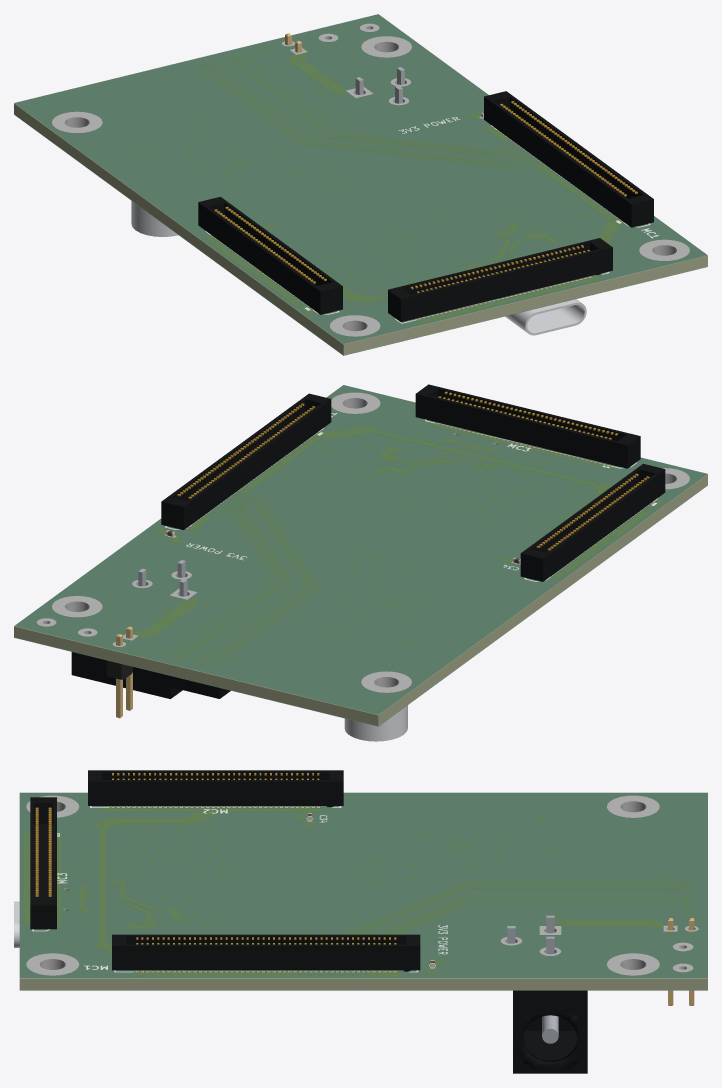
The model's file is Carrier_R16_Interactive.glb.
3 renders of one model, top to bottom at view 1: azimuth 30°, elevation 25°; view 2: azimuth 150°, elevation 25°; view 3: azimuth 270°, elevation 25°, orthographic. The views are drawn at different scales.
Visible parts, largest first — view 1: CARRIER_R16_PRESENTATION_soldermask (×2), CARRIER_R16_PRESENTATION_PCB, MC3, MC1, MC2, CARRIER_R16_PRESENTATION_copper, CARRIER_R16_PRESENTATION_pad, J500, C5; view 2: CARRIER_R16_PRESENTATION_soldermask (×2), CARRIER_R16_PRESENTATION_PCB, MC3, MC1, MC2, CARRIER_R16_PRESENTATION_copper, CARRIER_R16_PRESENTATION_pad, J4, C5, J1, JP1; view 3: CARRIER_R16_PRESENTATION_soldermask (×2), CARRIER_R16_PRESENTATION_PCB, MC1, MC2, J4, CARRIER_R16_PRESENTATION_copper, CARRIER_R16_PRESENTATION_pad, MC3, CARRIER_R16_PRESENTATION_silkscreen.
Part boxes in pixels (x1,y1,x2,y2): CARRIER_R16_PRESENTATION_soldermask (×2): (14, 14, 707, 355); CARRIER_R16_PRESENTATION_PCB: (14, 15, 707, 355); MC3: (388, 238, 612, 322); MC1: (484, 91, 653, 227); MC2: (198, 196, 342, 314); CARRIER_R16_PRESENTATION_copper: (143, 46, 622, 322); CARRIER_R16_PRESENTATION_pad: (52, 23, 689, 336); J500: (505, 299, 586, 335); C5: (131, 201, 178, 236); CARRIER_R16_PRESENTATION_soldermask (×2): (14, 385, 707, 726); CARRIER_R16_PRESENTATION_PCB: (14, 386, 707, 726); MC3: (415, 384, 640, 468); MC1: (161, 393, 331, 529); MC2: (520, 463, 665, 581); CARRIER_R16_PRESENTATION_copper: (107, 422, 663, 665); CARRIER_R16_PRESENTATION_pad: (36, 392, 689, 692); J4: (71, 560, 187, 698); C5: (344, 705, 407, 741); J1: (133, 667, 230, 698); JP1: (106, 626, 132, 718); CARRIER_R16_PRESENTATION_soldermask (×2): (19, 792, 707, 990); CARRIER_R16_PRESENTATION_PCB: (19, 793, 707, 990); MC1: (112, 934, 420, 971); MC2: (88, 770, 343, 806); J4: (507, 915, 587, 1073); CARRIER_R16_PRESENTATION_copper: (24, 806, 699, 976); CARRIER_R16_PRESENTATION_pad: (26, 795, 698, 975); MC3: (30, 797, 56, 929); CARRIER_R16_PRESENTATION_silkscreen: (32, 806, 447, 972).
Bounding box in the file's own units: 0.053 × 0.0163 × 0.0837.
